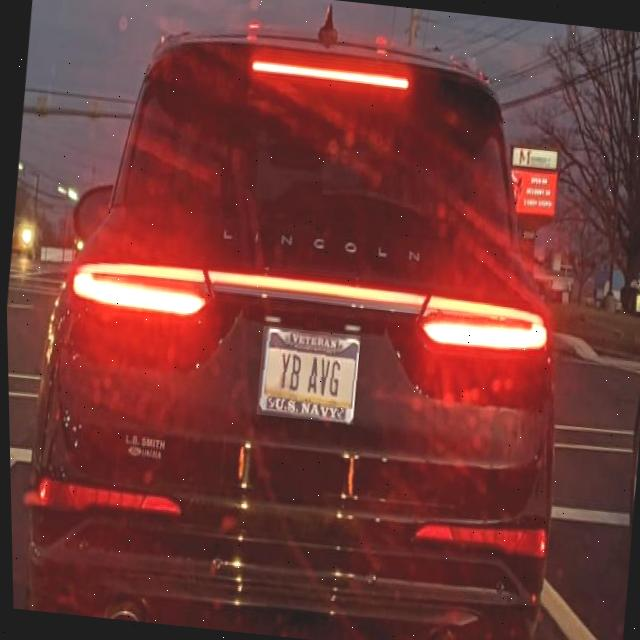LicensePlate: (254, 326, 358, 424)
